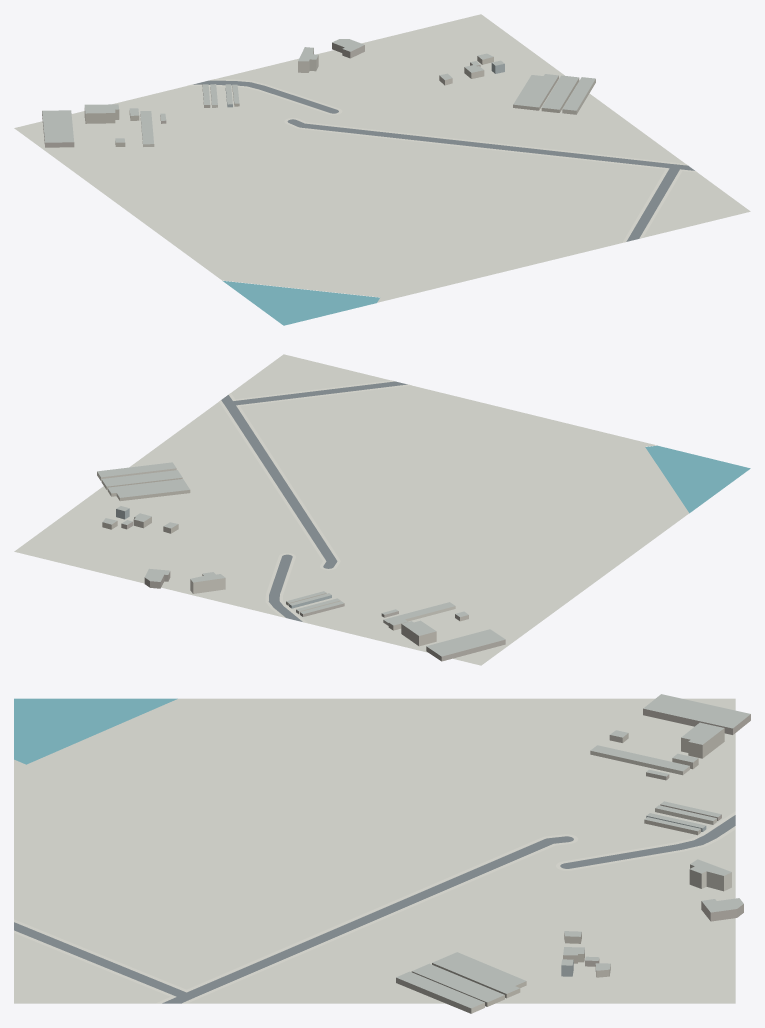
The picture shows the model from 3 angles, top to bottom: view 1: azimuth 30°, elevation 25°; view 2: azimuth 150°, elevation 25°; view 3: azimuth 270°, elevation 25°; orthographic projection. The views are drawn at different scales.
Visible parts, largest first — view 1: city; view 2: city; view 3: city.
Boxes of the visible parts, box(x1,y1,x2,y2) form: city: box(14, 14, 750, 325); city: box(14, 354, 750, 665); city: box(14, 694, 750, 1013).
Size of the model in its own units: 517 by 11.98 by 511.
